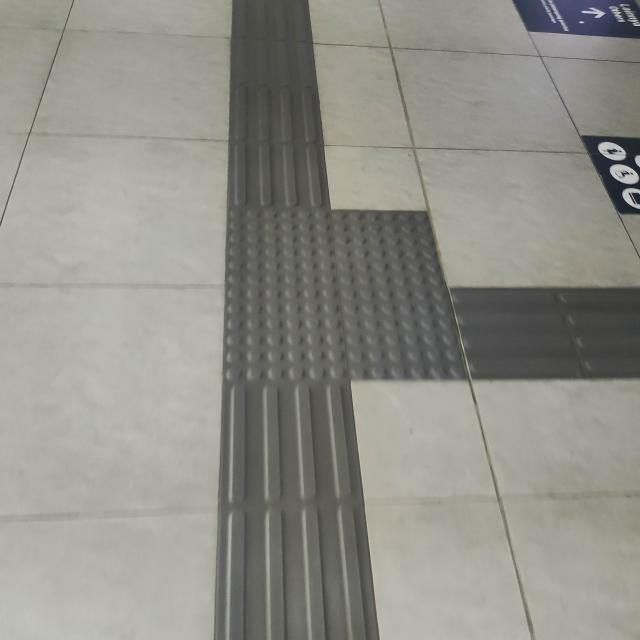lurus: (208, 0, 366, 640)
